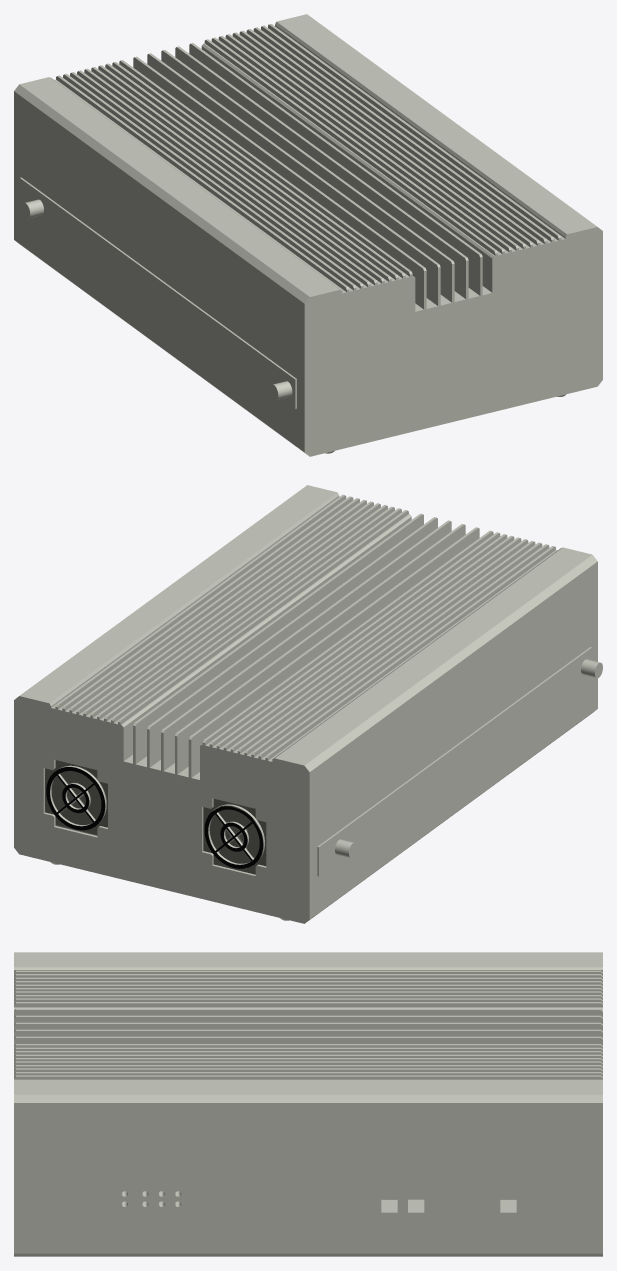
Rendered from computer.dae.
3 views of the same model, one above another, from view 1: azimuth 30°, elevation 25°; view 2: azimuth 150°, elevation 25°; view 3: azimuth 270°, elevation 25° (orthographic). The views are drawn at different scales.
Parts seen in each view (by area): view 1: Computer; view 2: Computer; view 3: Computer.
Boxes of the visible parts, x1,y1,x2,y2 form: Computer: [14, 14, 602, 456]; Computer: [14, 485, 602, 923]; Computer: [14, 952, 602, 1256].
Size of the model in its own units: 0.179 by 0.287 by 0.0916.
1 material, 1 textured.
